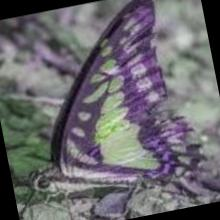butterfly: (31, 0, 202, 200)
